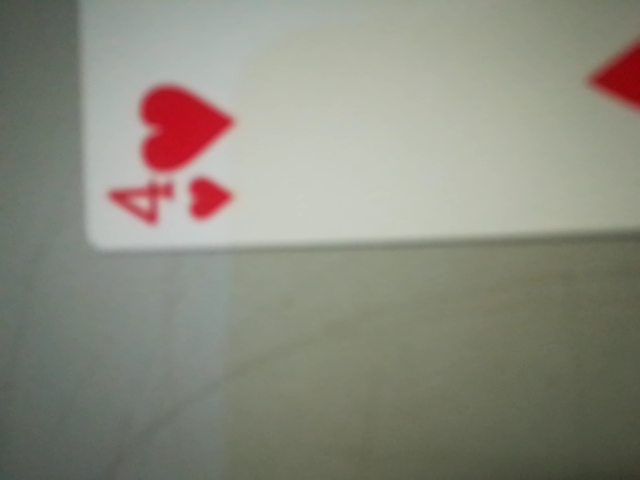hx 4: (86, 173, 254, 243)
